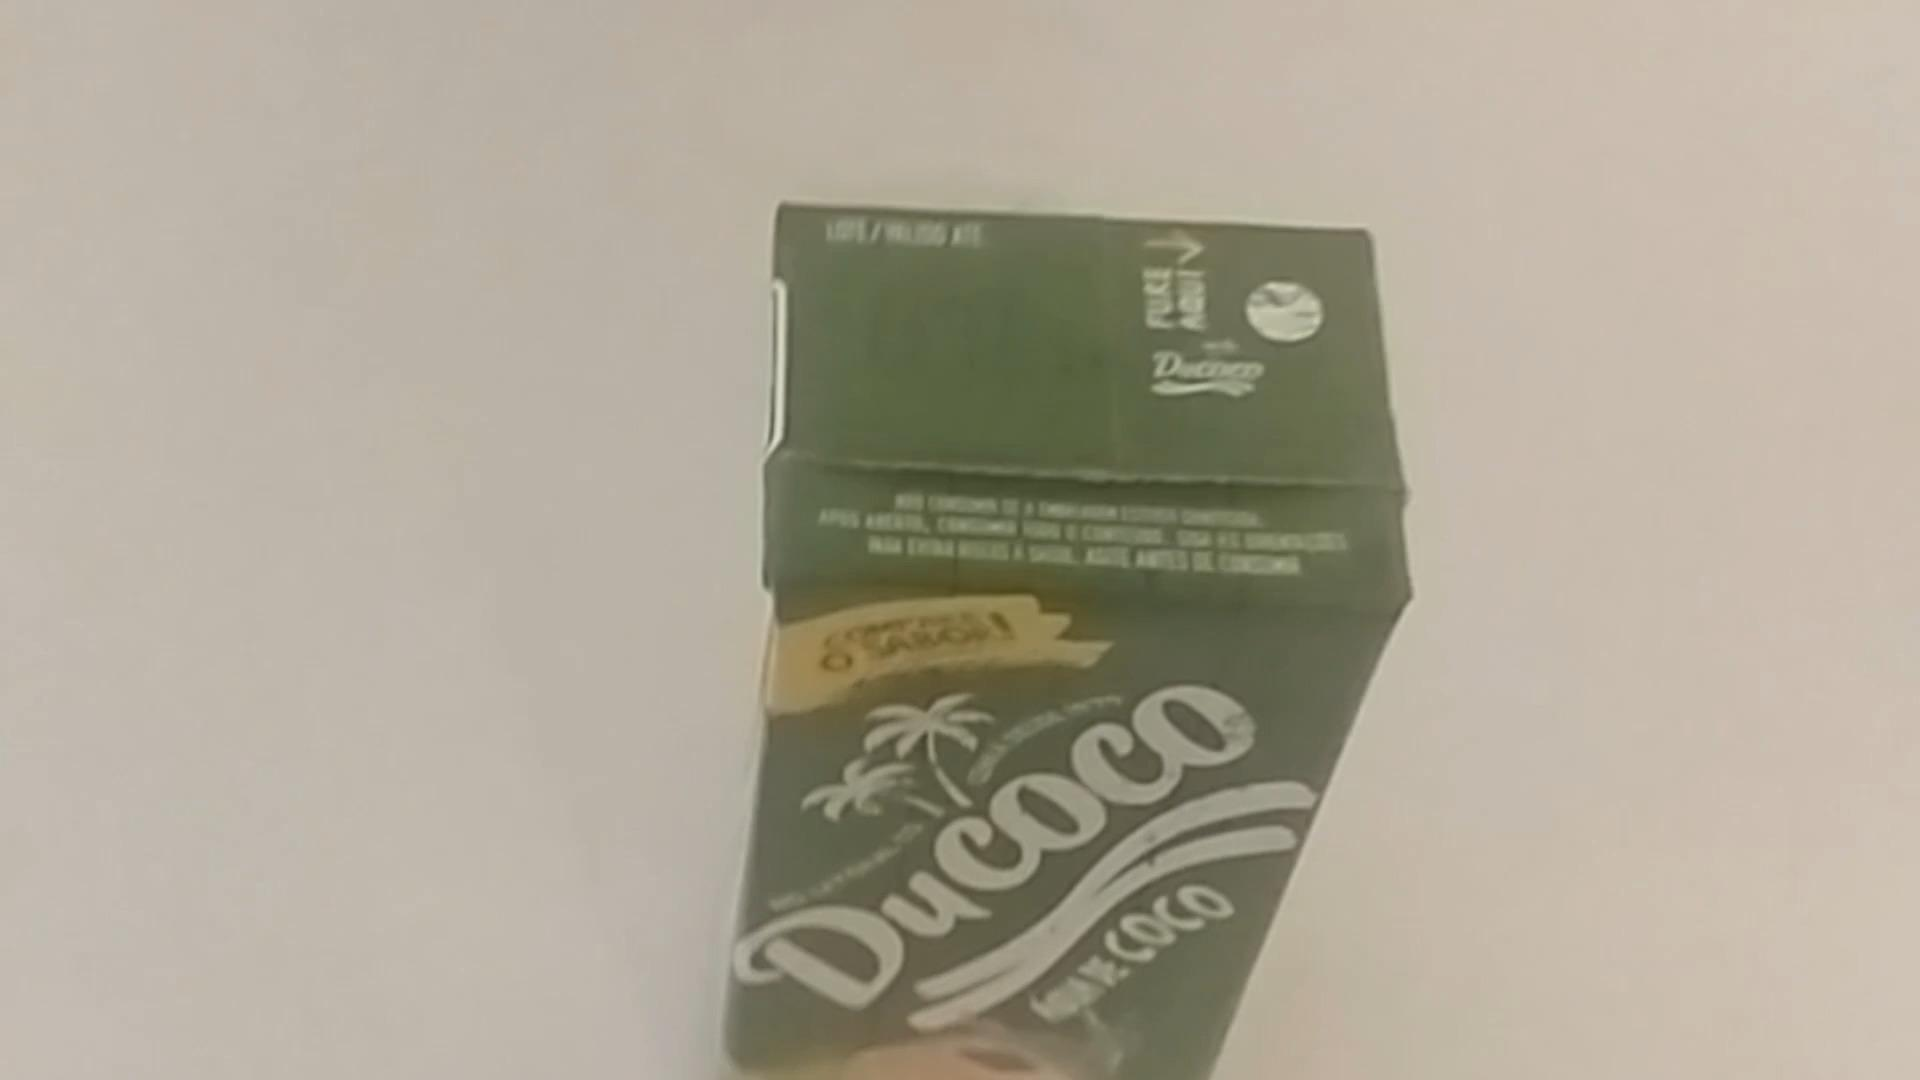coco: (715, 199, 1410, 1080)
